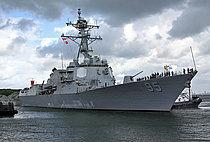MIL_Ship: (16, 8, 197, 112)
